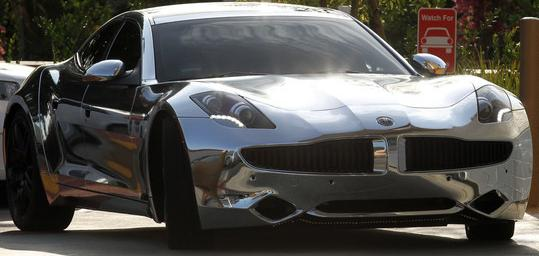front_view: (187, 77, 524, 240)
headlight: (190, 84, 283, 143)
side_glass: (63, 15, 142, 88)
